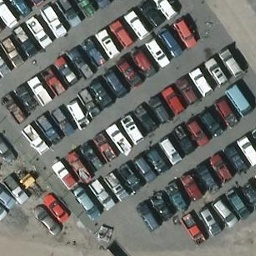car: (216, 46, 245, 80), (19, 125, 48, 158), (33, 114, 62, 147), (48, 107, 77, 140), (60, 97, 89, 130), (38, 6, 67, 39), (113, 165, 141, 195), (116, 116, 144, 146), (80, 38, 108, 67), (93, 29, 121, 58), (106, 21, 134, 50), (121, 10, 149, 39), (33, 206, 60, 236), (40, 193, 67, 223), (73, 189, 100, 219), (86, 180, 113, 210), (100, 172, 127, 202), (130, 155, 157, 185), (52, 161, 79, 191), (64, 152, 91, 182), (78, 144, 105, 174), (91, 135, 118, 165), (106, 124, 133, 154), (131, 106, 158, 136), (143, 95, 170, 125), (160, 86, 187, 116), (173, 77, 200, 107), (186, 67, 213, 97), (200, 58, 227, 88), (144, 40, 172, 68), (158, 32, 186, 60), (173, 21, 201, 49), (1, 95, 29, 123), (15, 84, 43, 112), (26, 77, 54, 105), (38, 67, 66, 95), (52, 56, 80, 84), (65, 51, 93, 79), (137, 1, 165, 28), (232, 136, 256, 167), (181, 215, 205, 246), (197, 206, 221, 237), (213, 200, 237, 231), (226, 188, 250, 219), (28, 17, 52, 48), (209, 153, 232, 184), (224, 145, 247, 176), (75, 90, 101, 117), (88, 82, 114, 109), (144, 149, 168, 176), (158, 138, 182, 165), (172, 126, 196, 153), (185, 120, 209, 147), (201, 113, 225, 140), (215, 99, 239, 126), (227, 87, 251, 114), (135, 203, 159, 230), (162, 184, 186, 211), (180, 174, 204, 201), (194, 165, 218, 192), (102, 72, 126, 96), (118, 62, 142, 86), (130, 51, 154, 75), (1, 39, 22, 66), (13, 27, 34, 54), (150, 191, 170, 216)
